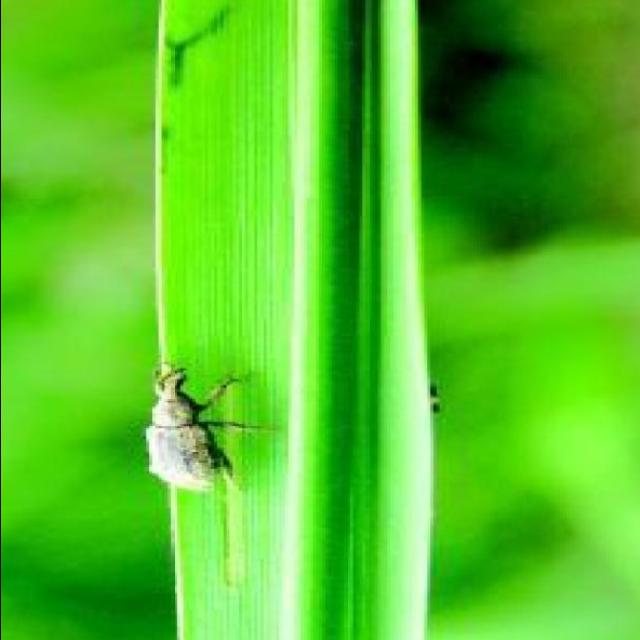ricebug: (144, 364, 249, 491)
